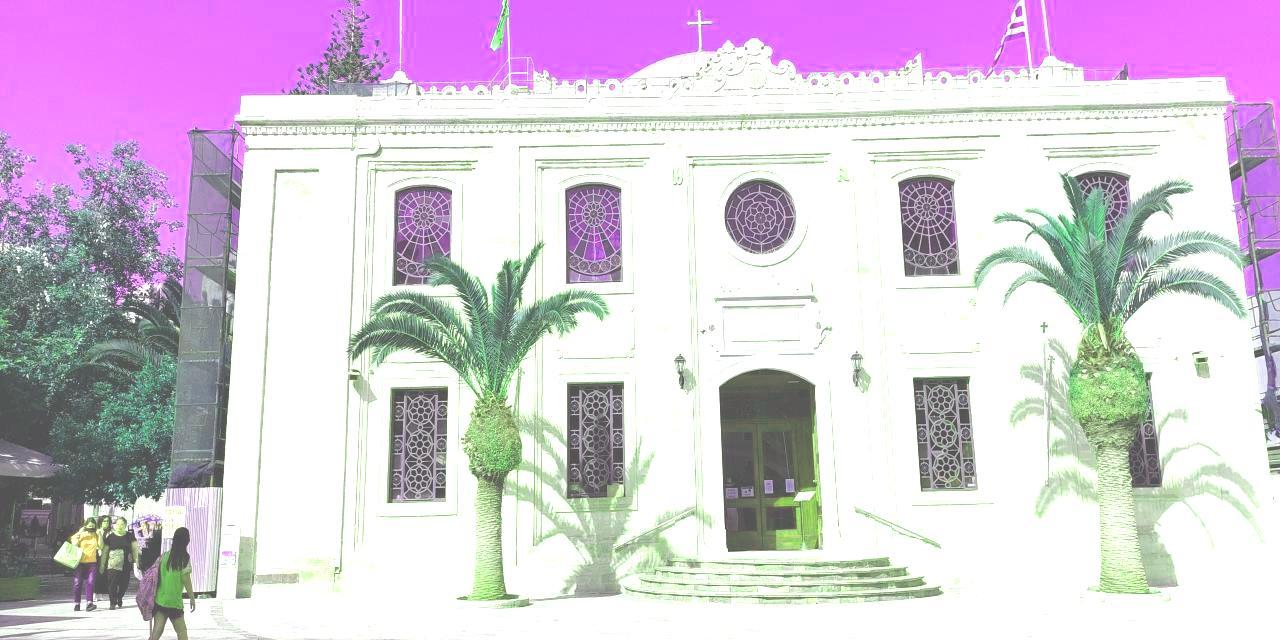Agios Titos: (223, 49, 1279, 597)
